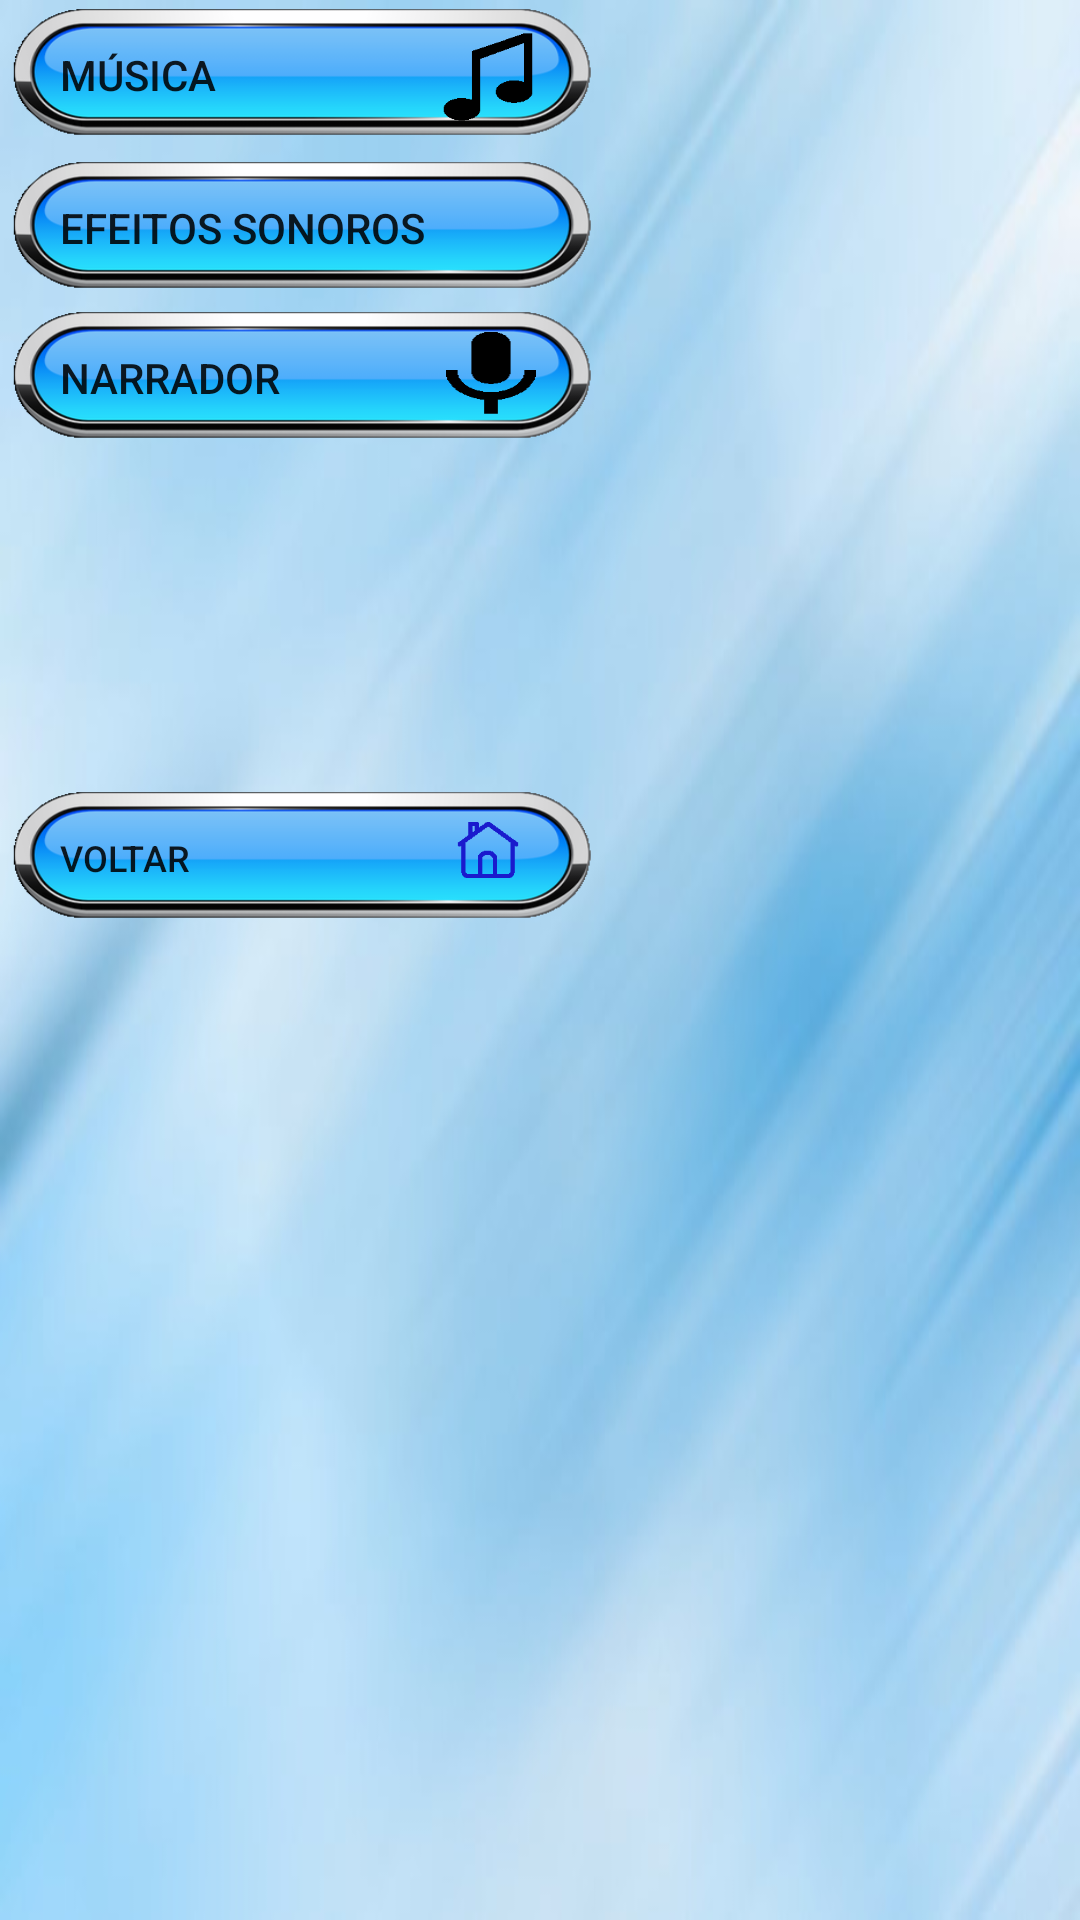

Icons on this 1080×1920 Android screen, each with the point to tap as (x,y):
homepress: (488,850)
